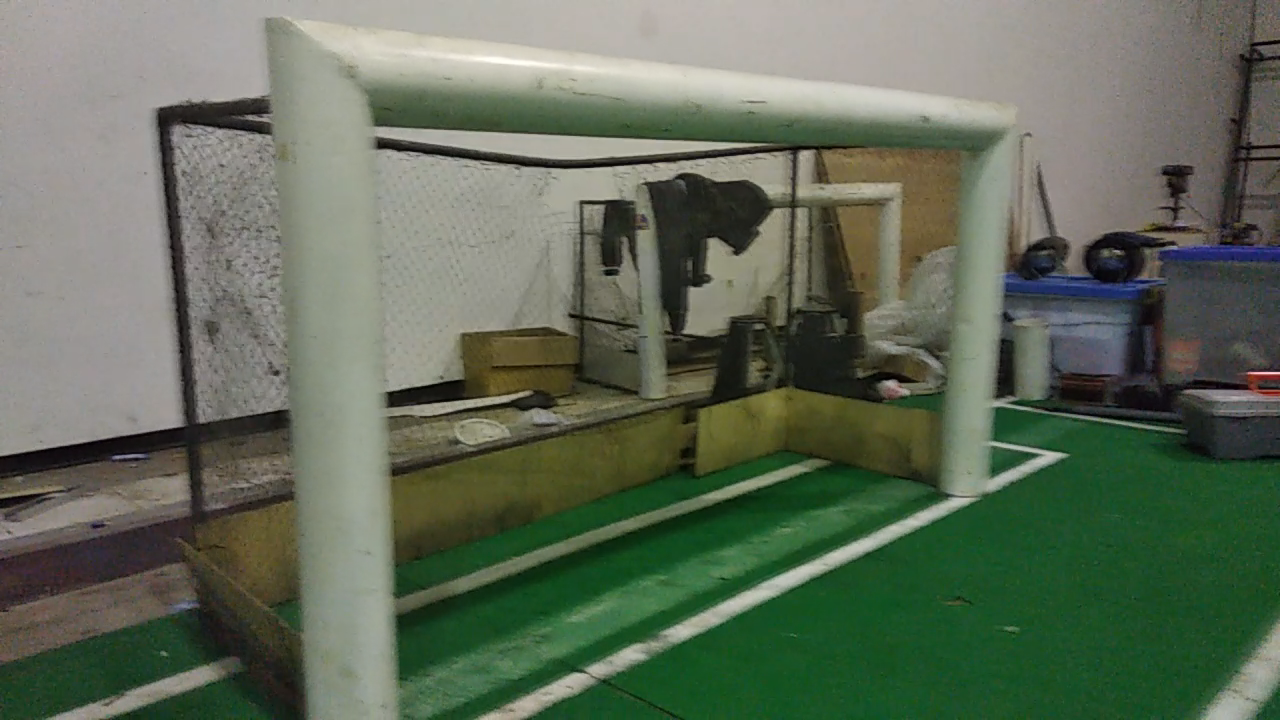gawang: (244, 2, 1033, 717)
